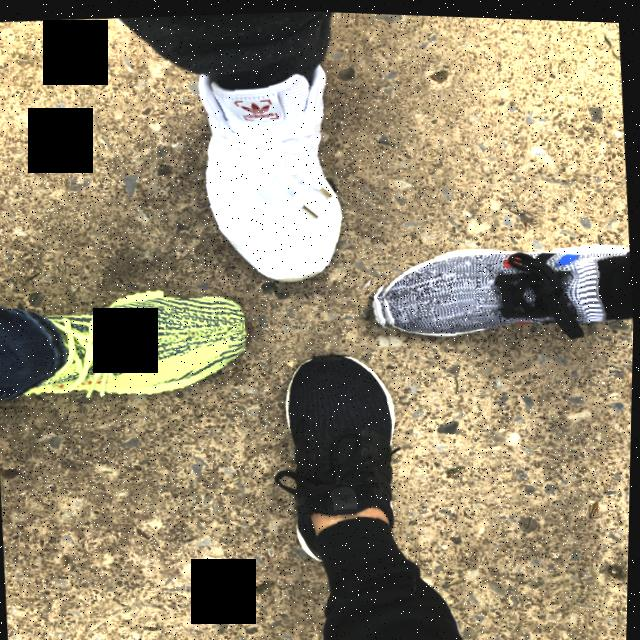shoe: (145, 4, 389, 304), (368, 175, 637, 384), (240, 340, 427, 600), (0, 244, 254, 434)
